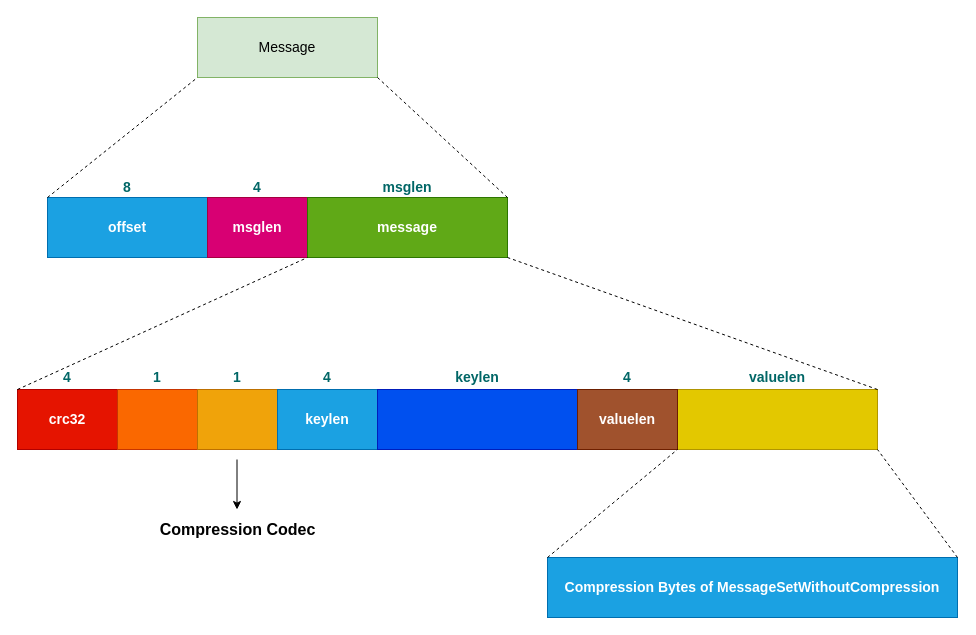
The diagram is 976 pixels wide and 635 high, and some of its shapes have lost their labels. The shapes that lost their labels are listed below. From the top down, each one's centre as x and y in pixels, then its label:
At point 157,419: "magic".
At point 237,419: "attributes".
At point 477,419: "key".
At point 777,419: "value".
